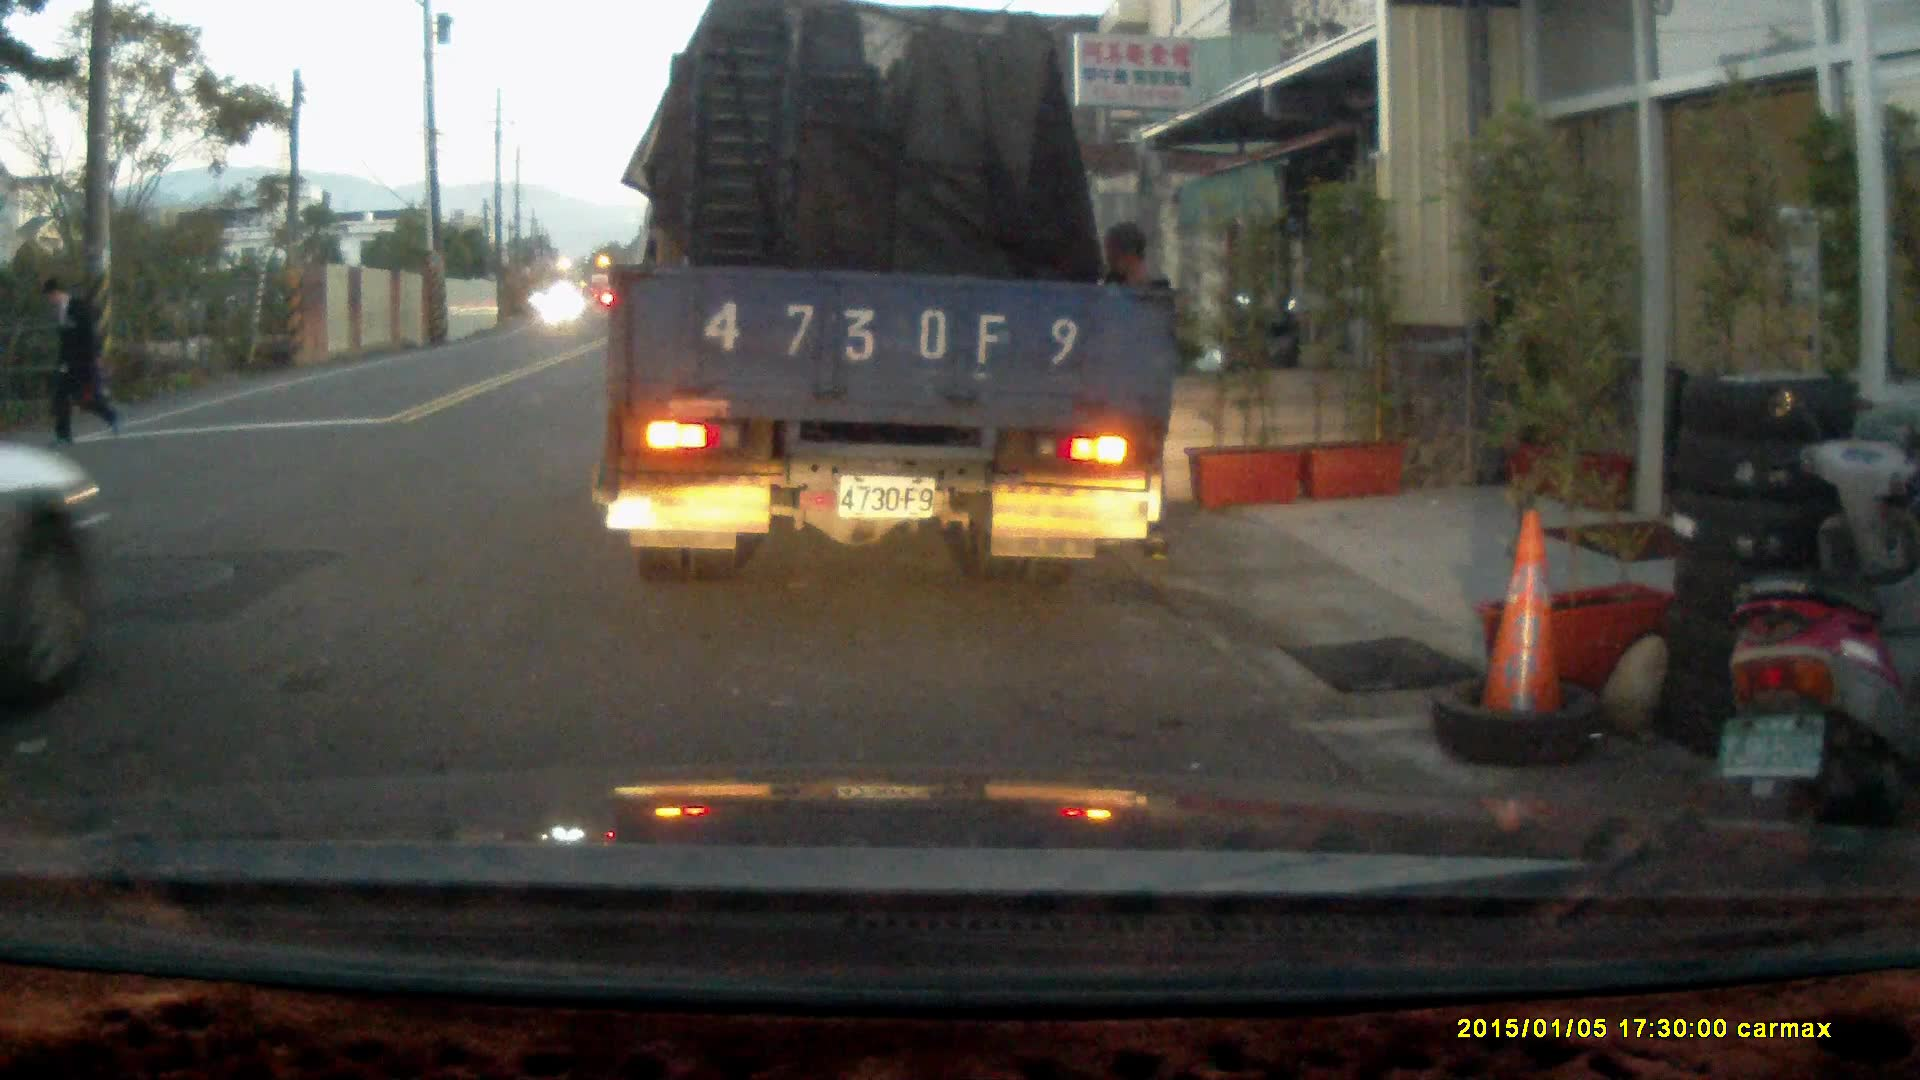pedestrian: (1083, 221, 1181, 563), (32, 275, 120, 447)
vehicle: (605, 23, 1188, 572), (1, 409, 114, 667)
